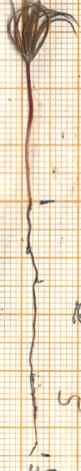flower: (0, 0, 81, 69)
root: (21, 204, 42, 461)
stem: (21, 71, 35, 204)
